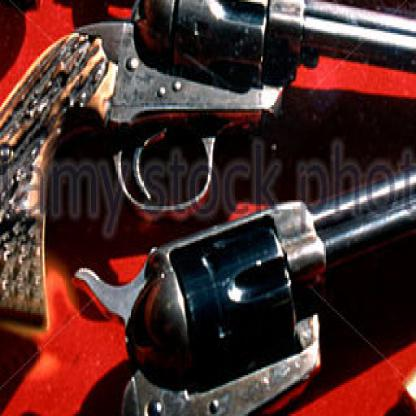gun: (0, 0, 415, 335), (20, 72, 414, 414)
